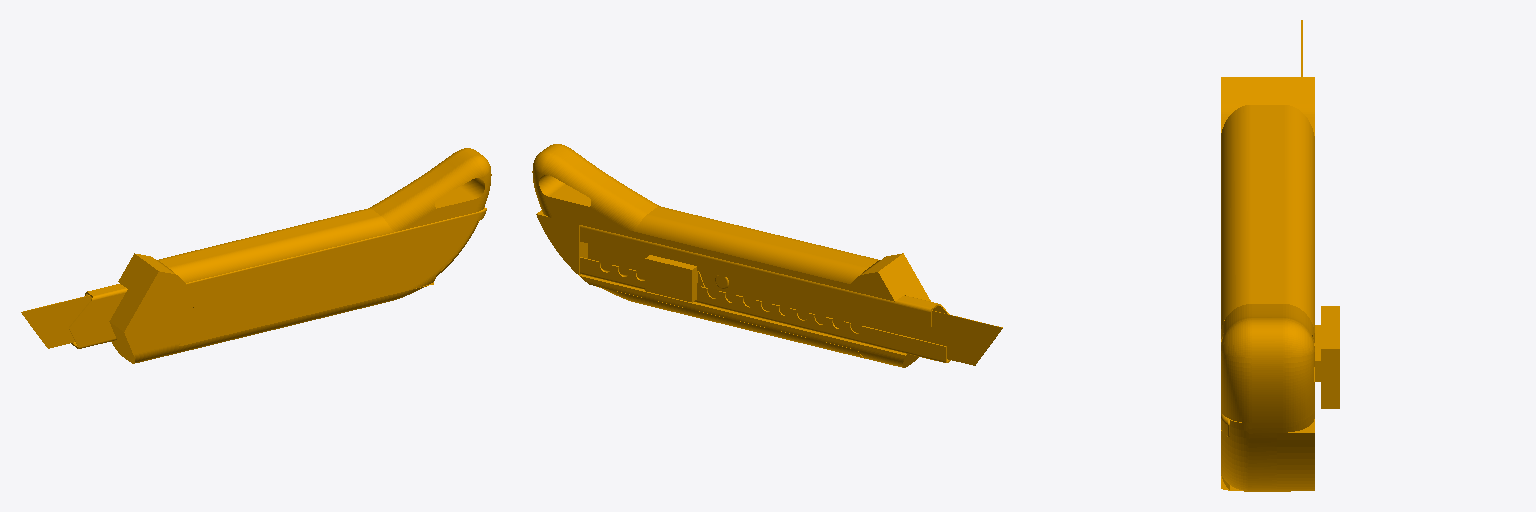
URDF robot description (utilityknife_2_L0.55_T0.58):
<?xml version="1.0" encoding="utf-8"?>
<robot name="utilityknife_2_L0.55_T0.58">
  <link name="utilityknife_2_L0.55_T0.58Link">
    <contact>
      <lateral_friction value="1"/>
    </contact>
    <inertial>
      <origin rpy="0 0 0" xyz="0 0 0"/>
      <mass value="0.0"/>
      <inertia ixx="0" ixy="0" ixz="0" iyy="0" iyz="0" izz="0"/>
    </inertial>
    <visual>
      <origin rpy="0 0 0" xyz="0 0 0"/>
      <geometry>
        <mesh filename="generated_stl/utilityknife/utilityknife_2/utilityknife_2_L0.55_T0.58/utilityknife_2_L0.55_T0.58.stl" scale="0.01 0.01 0.01"/>
      </geometry>
    </visual>
    <collision>
      <origin rpy="0 0 0" xyz="0 0 0"/>
      <geometry>
        <mesh filename="generated_stl/utilityknife/utilityknife_2/utilityknife_2_L0.55_T0.58/utilityknife_2_L0.55_T0.58.stl" scale="0.01 0.01 0.01"/>
      </geometry>
    </collision>
  </link>
</robot>

--- What the picture shows (computed from the rendered views, not written in the file) ---
Views: 3 orthographic renders of the robot side by side, from view 1: azimuth 30°, elevation 25°; view 2: azimuth 150°, elevation 25°; view 3: azimuth 270°, elevation 25°.
Model utilityknife_2_L0.55_T0.58 with 1 links and 0 joints (none), rooted at utilityknife_2_L0.55_T0.58Link, posed every joint at zero.
Visible links, largest first — view 1: utilityknife_2_L0.55_T0.58Link; view 2: utilityknife_2_L0.55_T0.58Link; view 3: utilityknife_2_L0.55_T0.58Link.
Link boxes in pixels (<box>): utilityknife_2_L0.55_T0.58Link: <box>21,148,491,363</box>; utilityknife_2_L0.55_T0.58Link: <box>532,144,1002,367</box>; utilityknife_2_L0.55_T0.58Link: <box>1221,20,1339,491</box>.
Bounding box of the posed robot: 0.0443 × 0.0053 × 0.0114 m (x, y, z).
Meshes: 1 distinct files referenced, 1 mesh visuals loaded (1 binary STL).